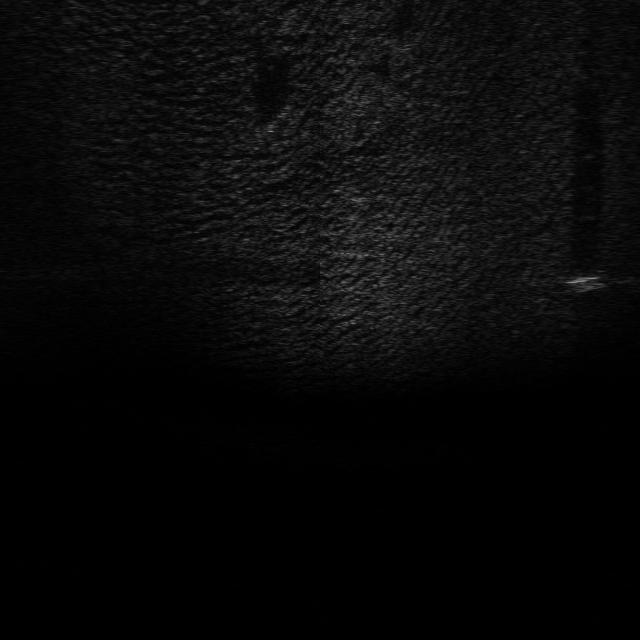cube: (568, 268, 610, 294)
plane: (253, 89, 301, 137)
